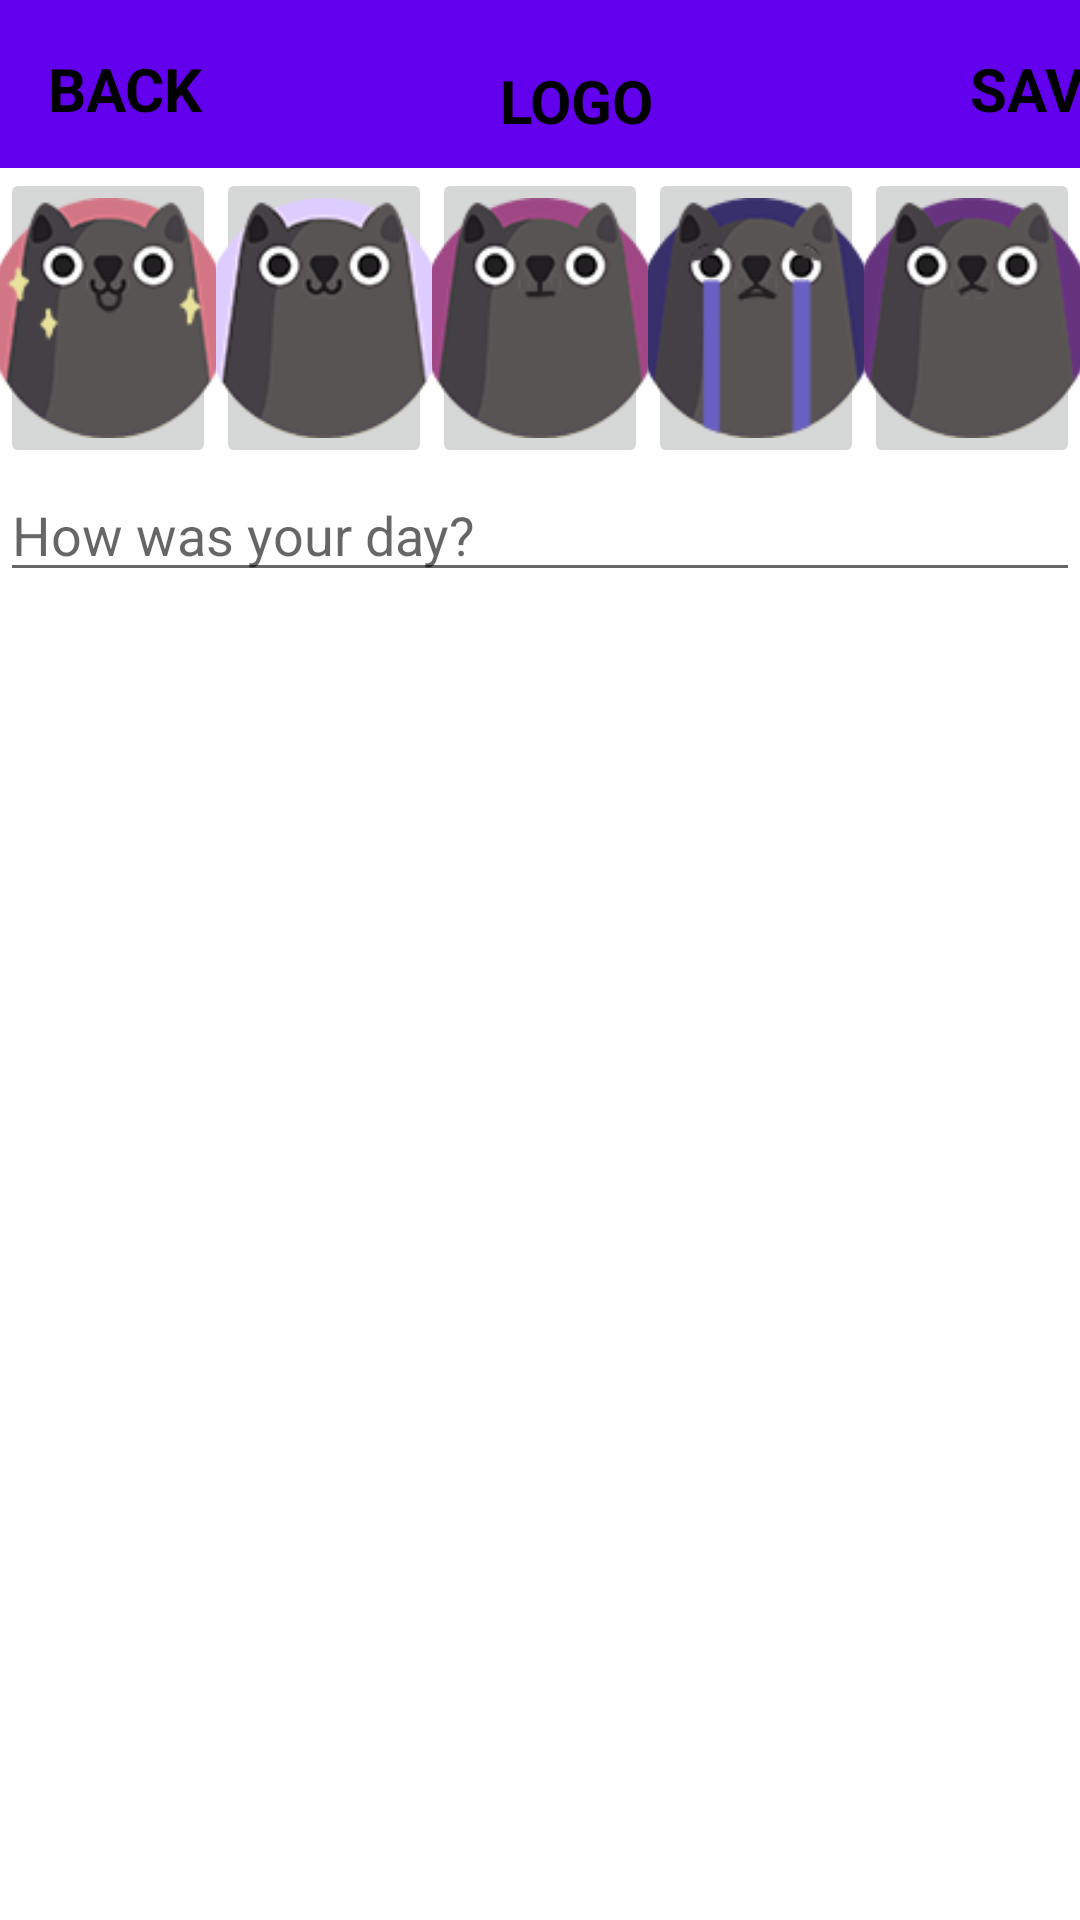

Named icons in this screenshot (1080x1920) and their centers, (x=x, y=y):
cat: (x=540, y=318)
cat happy: (x=108, y=318)
cat not ok: (x=972, y=318)
cat sad: (x=756, y=318)
cat smile: (x=324, y=318)
